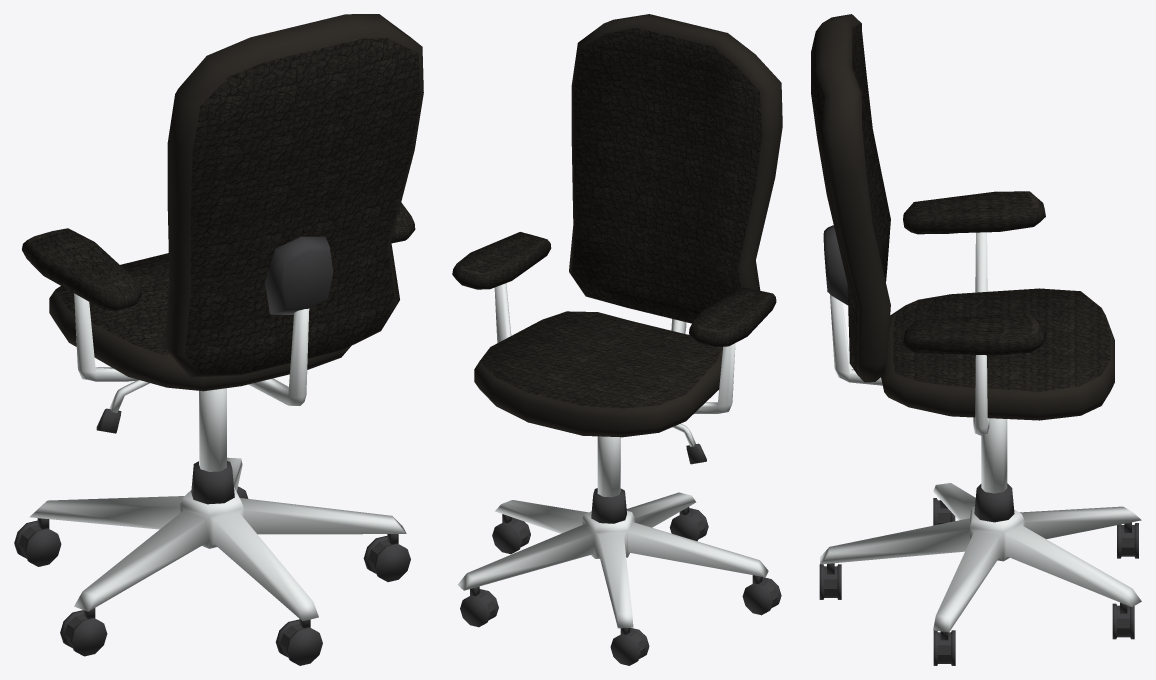
The model's file is Teacher Chair.fbx.
The picture shows the model from 3 angles, left to right: view 1: azimuth 30°, elevation 25°; view 2: azimuth 150°, elevation 25°; view 3: azimuth 270°, elevation 25°; orthographic projection. The views are drawn at different scales.
Parts seen in each view (by area): view 1: TeachChair Back, TeachChair Legs, TeachChair Seat, TeachCHair ArmrestL, TeachChair Backrestbase, TeachChair Pole, TeachChair BastrestPole, TeachChair ArmrestPoleL, Wheel, Wheel.001, Wheel.002, Wheel.004 (+1 smaller); view 2: TeachChair Back, TeachChair Seat, TeachChair Legs, TeachCHair ArmrestR, TeachCHair ArmrestL, TeachChair Pole, TeachChair ArmrestPoleL, Wheel.003, Wheel.002, Wheel.001, Wheel.004, TeachChair PoleBase (+2 smaller); view 3: TeachChair Seat, TeachChair Back, TeachChair Legs, TeachCHair ArmrestL, TeachCHair ArmrestR, TeachChair Pole, TeachChair BastrestPole, TeachChair Backrestbase, TeachChair PoleBase, TeachChair ArmrestPoleR, TeachChair ArmrestPoleL, Wheel.003 (+3 smaller).
Part boxes in pixels (x1,y1,x2,y2): TeachChair Back: (164,14,423,377); TeachChair Legs: (29,457,406,621); TeachChair Seat: (49,253,350,391); TeachCHair ArmrestL: (22,228,141,311); TeachChair Backrestbase: (265,236,333,314); TeachChair Pole: (199,388,226,471); TeachChair BastrestPole: (248,308,309,405); TeachChair ArmrestPoleL: (74,293,138,381); Wheel: (275,619,322,665); Wheel.001: (60,610,107,656); Wheel.002: (14,520,61,566); Wheel.004: (363,536,410,581); TeachChair Back: (569,14,782,323); TeachChair Seat: (474,311,722,437); TeachChair Legs: (457,492,768,628); TeachCHair ArmrestR: (452,232,551,289); TeachCHair ArmrestL: (689,287,776,347); TeachChair Pole: (597,436,620,497); TeachChair ArmrestPoleL: (694,343,735,413); Wheel.003: (460,589,498,627); Wheel.002: (610,628,649,665); Wheel.001: (742,577,781,615); Wheel.004: (492,517,530,554); TeachChair PoleBase: (591,488,626,523); TeachChair Seat: (881,288,1114,420); TeachChair Back: (811,14,890,382); TeachChair Legs: (820,483,1141,632); TeachCHair ArmrestL: (903,191,1045,234); TeachCHair ArmrestR: (903,315,1045,355); TeachChair Pole: (981,418,1007,493); TeachChair BastrestPole: (830,294,882,385); TeachChair Backrestbase: (823,225,848,305); TeachChair PoleBase: (974,483,1014,522); TeachChair ArmrestPoleR: (973,355,989,435); TeachChair ArmrestPoleL: (975,232,987,292); Wheel.003: (1112,603,1134,639).
Bounding box in the file's own units: 1.93 × 3.35 × 1.79.
3 materials, 1 textured.
